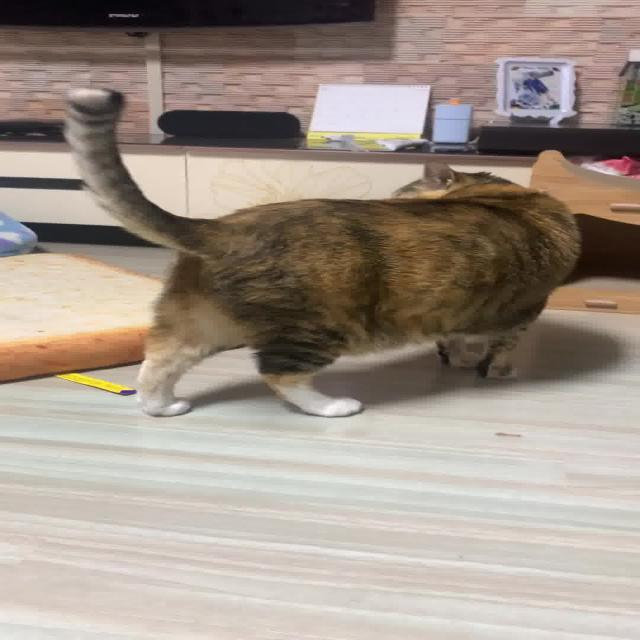cat: (61, 77, 583, 423)
